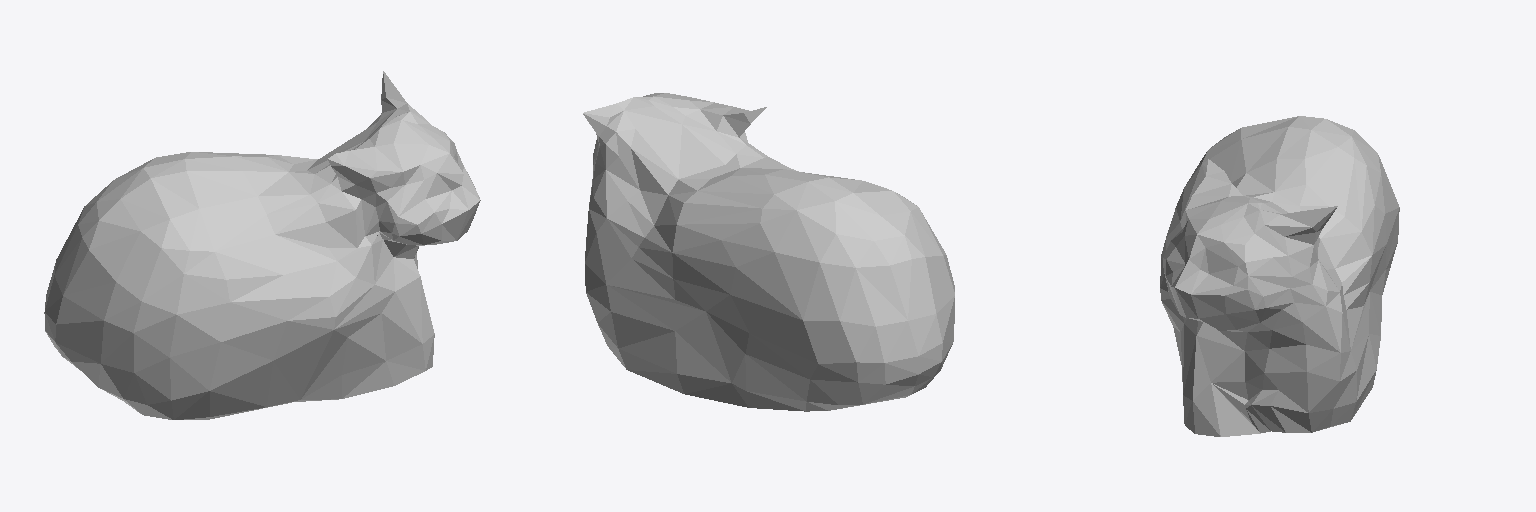
The model's file is max.obj.
3 views of the same model, side by side, from view 1: azimuth 30°, elevation 25°; view 2: azimuth 150°, elevation 25°; view 3: azimuth 270°, elevation 25° (orthographic).
Visible parts, largest first — view 1: dingus; view 2: dingus; view 3: dingus.
Part boxes in pixels (x1,y1,x2,y2): dingus: (44, 71, 480, 419); dingus: (583, 93, 954, 411); dingus: (1160, 116, 1399, 436).
Size of the model in its own units: 29.82 by 19.22 by 16.49.